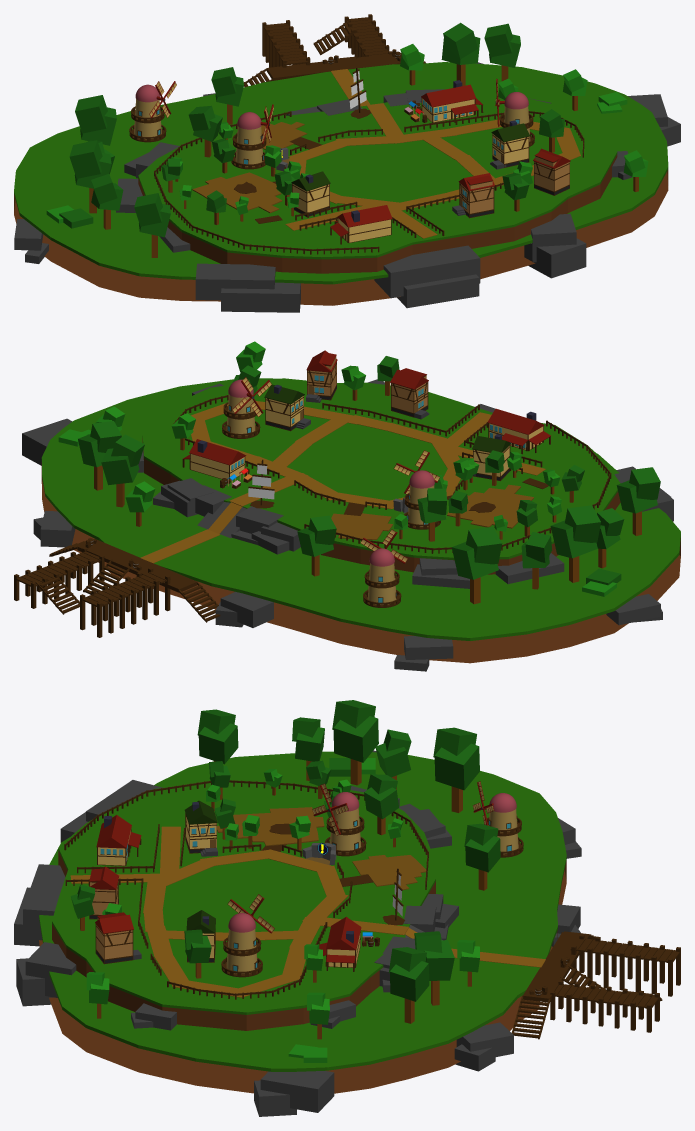
Rendered from island.glb.
The picture shows the model from 3 angles, top to bottom: view 1: azimuth 30°, elevation 25°; view 2: azimuth 150°, elevation 25°; view 3: azimuth 270°, elevation 25°; orthographic projection. The views are drawn at different scales.
Parts seen in each view (by area): view 1: Island, PORT, House 1.001, House 1.002, Tree.026, Mill.002, Mill.003, Tree.024, House 3.001, House 2.002, Tree.018, House 2.001 (+13 smaller); view 2: Island, PORT, Tree.026, Tree.024, House 1.002, Mill.003, Tree.018, Tree.022, House 1.001, House 2.002, House 3.001, Mill.001 (+16 smaller); view 3: Island, PORT, Tree.024, Tree.026, Tree.019, Mill.001, House 2.001, Tree.022, Mill.002, House 1.002, Tree.027, House 1.001 (+13 smaller).
Part boxes in pixels (<box>): Island: <box>14,62,680,312</box>; PORT: <box>243,14,425,86</box>; House 1.001: <box>421,80,483,122</box>; House 1.002: <box>330,205,392,244</box>; Tree.026: <box>75,95,116,145</box>; Mill.002: <box>231,112,266,169</box>; Mill.003: <box>129,84,166,142</box>; Tree.024: <box>69,140,111,213</box>; House 3.001: <box>490,120,529,169</box>; House 2.002: <box>452,173,494,218</box>; Tree.018: <box>441,22,480,85</box>; House 2.001: <box>533,148,570,195</box>; Island: <box>22,378,680,671</box>; PORT: <box>14,538,220,637</box>; Tree.026: <box>451,526,502,604</box>; Tree.024: <box>550,505,600,582</box>; House 1.002: <box>487,408,550,454</box>; Mill.003: <box>363,548,401,607</box>; Tree.018: <box>101,434,144,507</box>; Tree.022: <box>616,467,660,535</box>; House 1.001: <box>182,439,246,480</box>; House 2.002: <box>390,368,429,419</box>; House 3.001: <box>264,384,310,431</box>; Mill.001: <box>222,379,260,438</box>; Island: <box>14,750,581,1116</box>; PORT: <box>511,931,680,1039</box>; Tree.024: <box>332,700,378,785</box>; Tree.026: <box>433,727,479,812</box>; Tree.019: <box>388,947,429,1023</box>; Mill.001: <box>221,913,262,977</box>; House 2.001: <box>95,912,141,964</box>; Tree.022: <box>197,709,238,764</box>; Mill.002: <box>325,792,366,856</box>; House 1.002: <box>96,815,141,865</box>; Tree.027: <box>464,823,500,890</box>; House 1.001: <box>319,916,361,971</box>.
Size of what is drawn, in the model's own units: 58.92 by 9.7 by 48.01.
